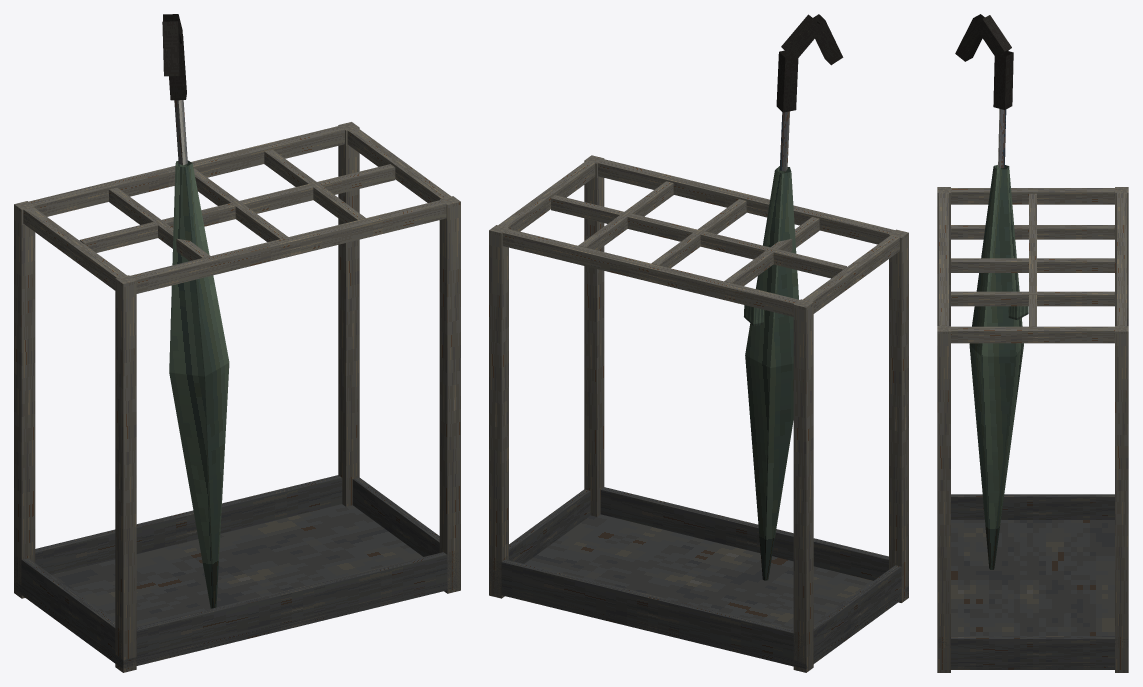
Rendered from prop_umbrella_stand-2.glb.
3 renders of one model, left to right at view 1: azimuth 30°, elevation 25°; view 2: azimuth 150°, elevation 25°; view 3: azimuth 270°, elevation 25°, orthographic. The views are drawn at different scales.
Parts seen in each view (by area): view 1: prop_umbrella_stand-2; view 2: prop_umbrella_stand-2; view 3: prop_umbrella_stand-2.
Boxes of the visible parts, <box> form: prop_umbrella_stand-2: <box>14,14,460,672</box>; prop_umbrella_stand-2: <box>489,14,908,672</box>; prop_umbrella_stand-2: <box>937,14,1128,672</box>.
Size of the model in its own units: 0.5 by 0.8773 by 0.28.
Materials: 5 (5 with a texture image).
